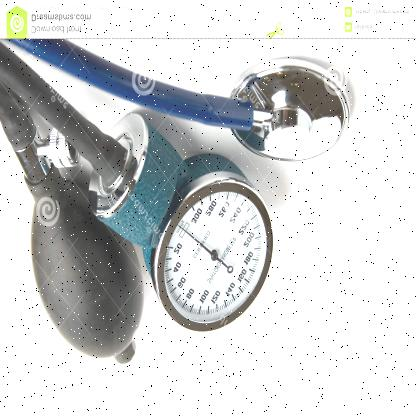needle: (179, 226, 212, 256)
